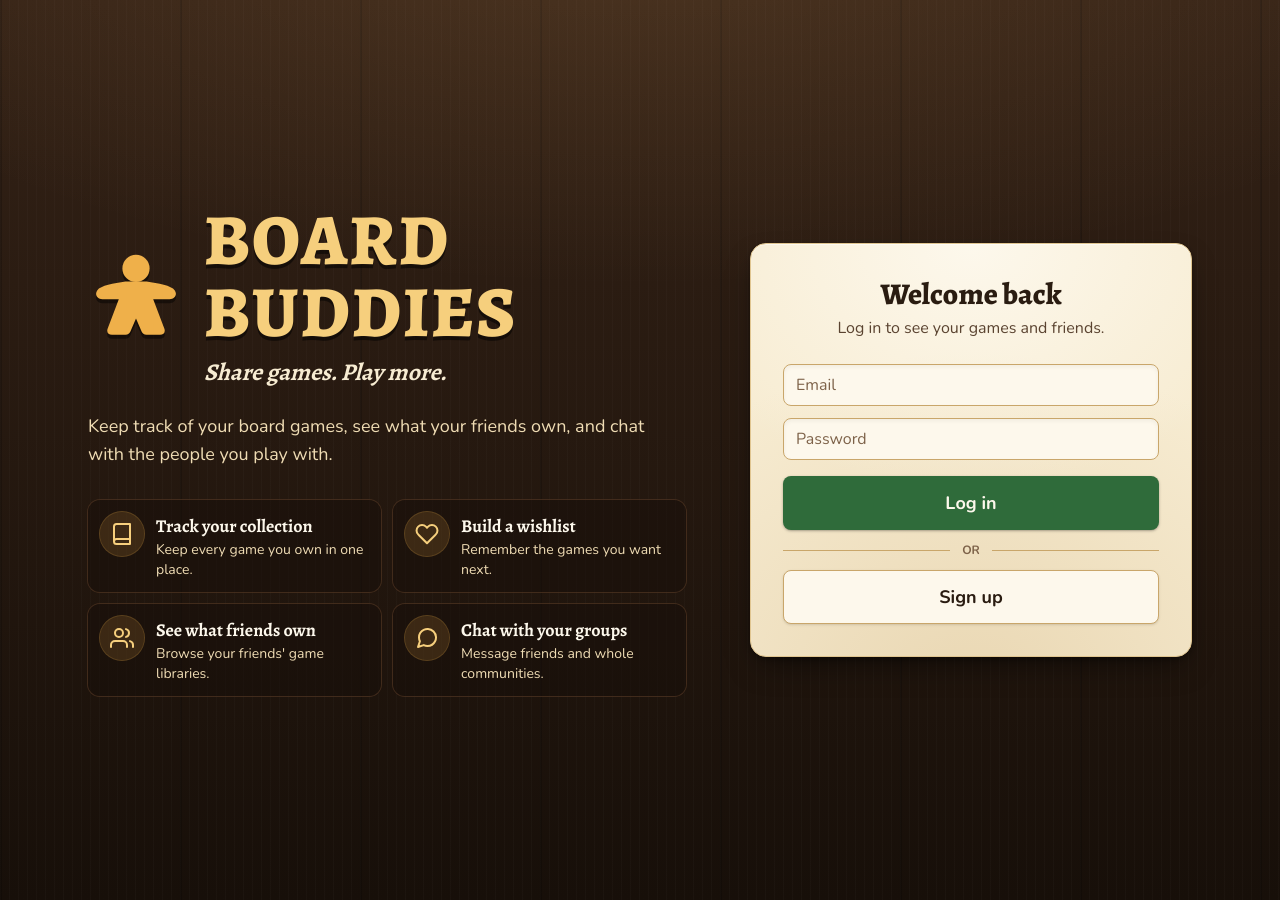
Scenario: Logging in › takes the user to their own library after they log in
The width and height of the screenshot is (1280, 900).
In the field labelled "Email": point(971, 385) [783, 364, 1159, 406], type "bob@example.com"
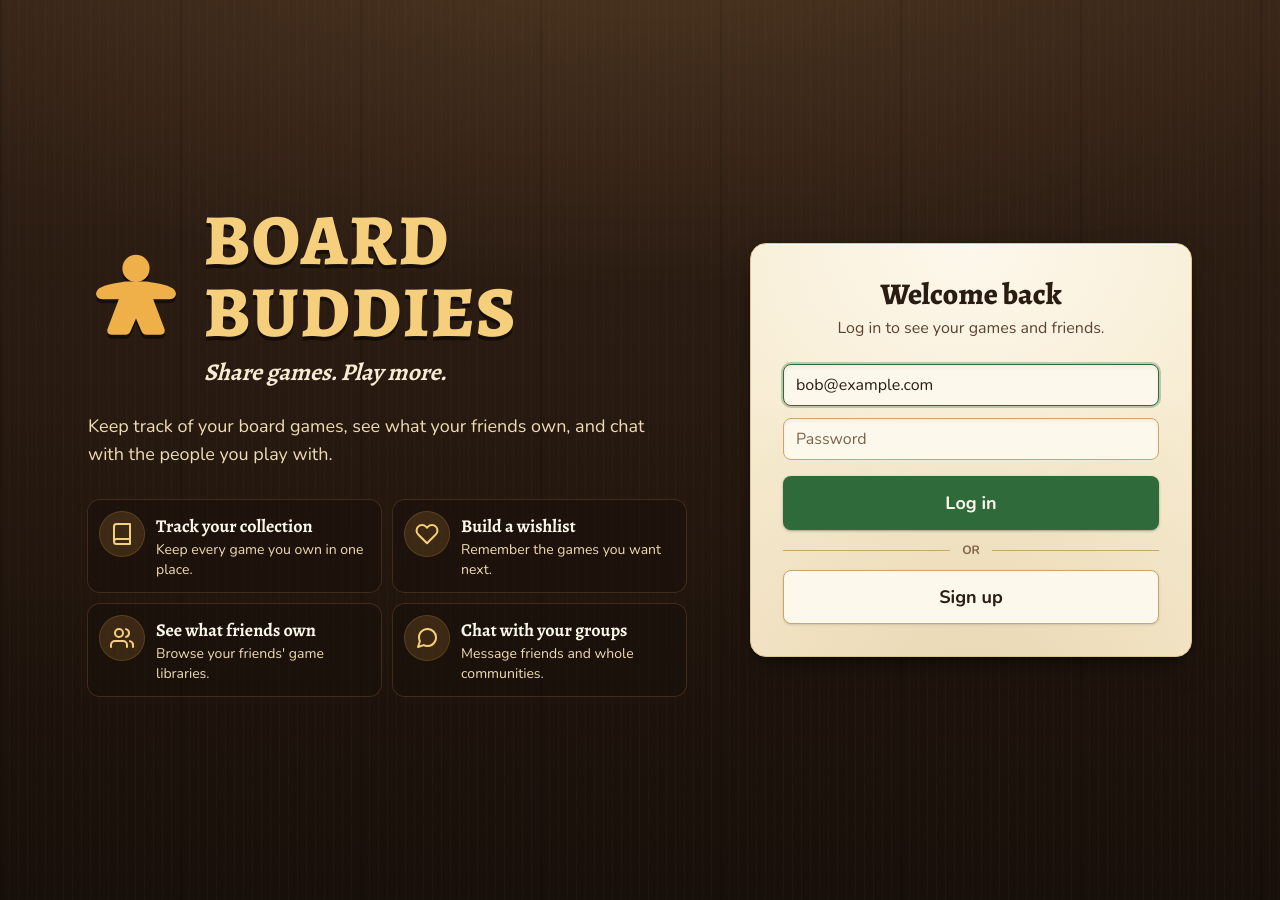
In the password field labelled "Password": point(971, 439) [783, 418, 1159, 460], type "correct-horse-battery"
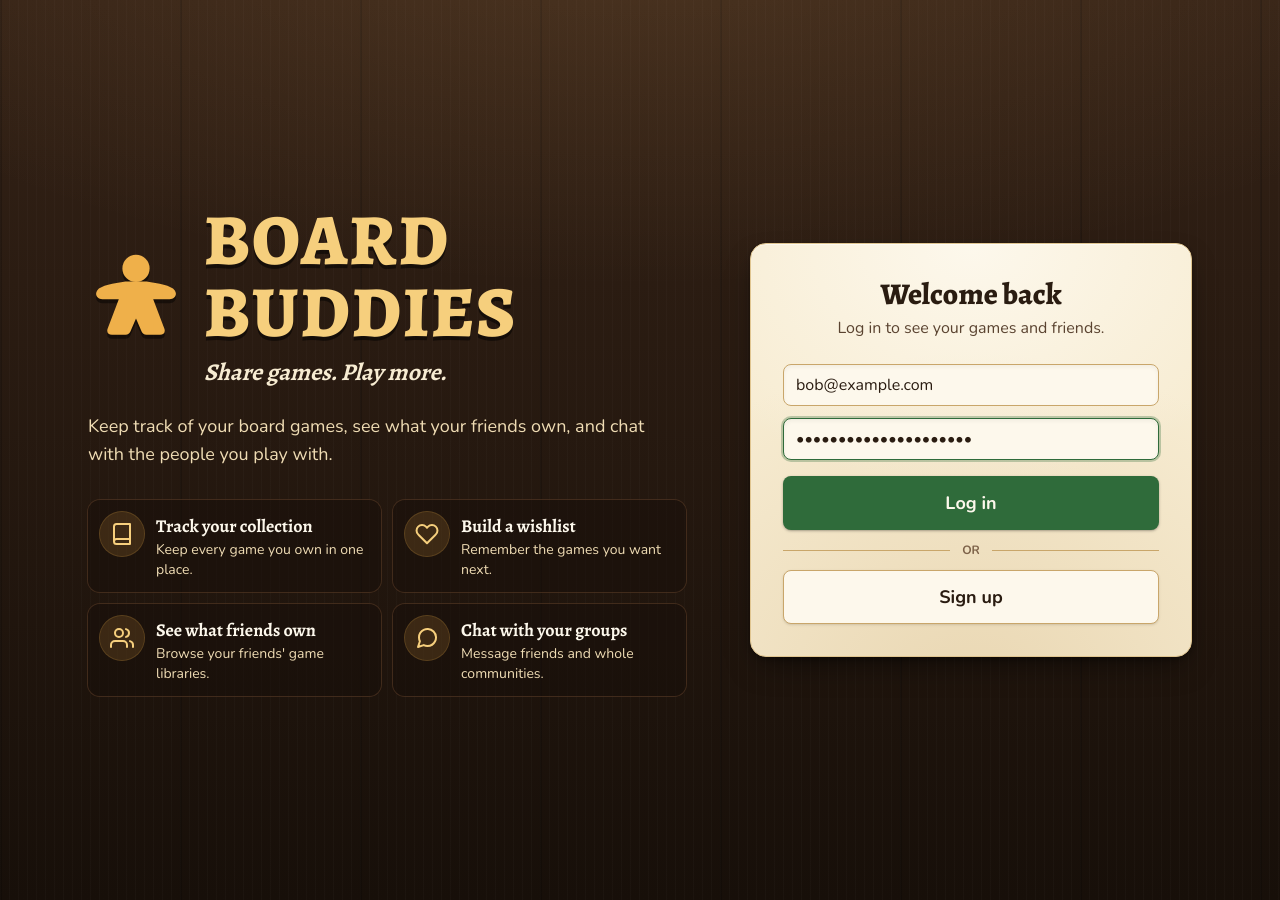
Click the button "Log in": point(971, 503) [783, 476, 1159, 530]
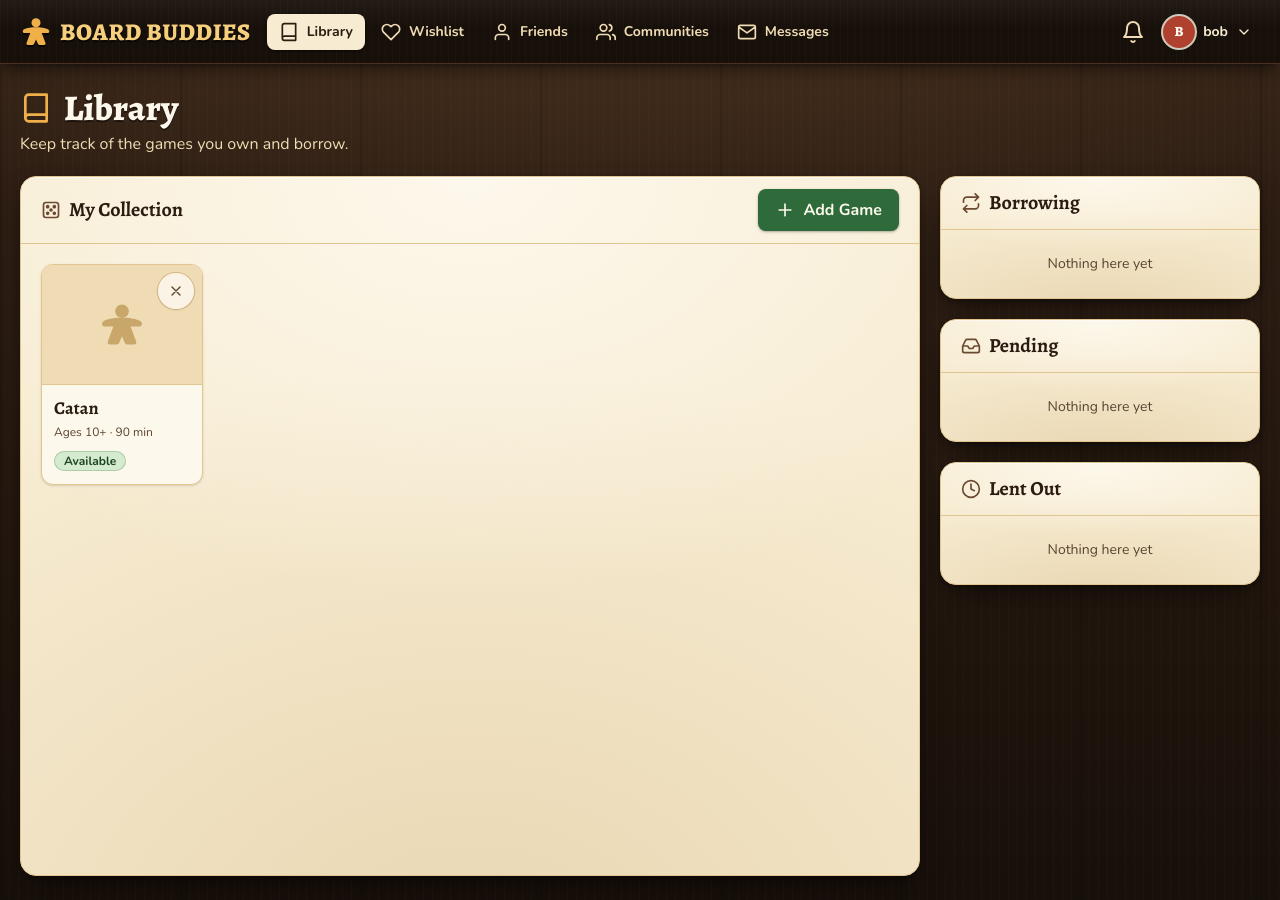
expect the heading "Library" is shown: met, box [20, 83, 178, 132]
expect the button "Catan Ages 10+ · 90 min Available" is shown: met, box [42, 265, 202, 484]
expect the button "B bob" is shown: met, box [1159, 12, 1260, 52]
